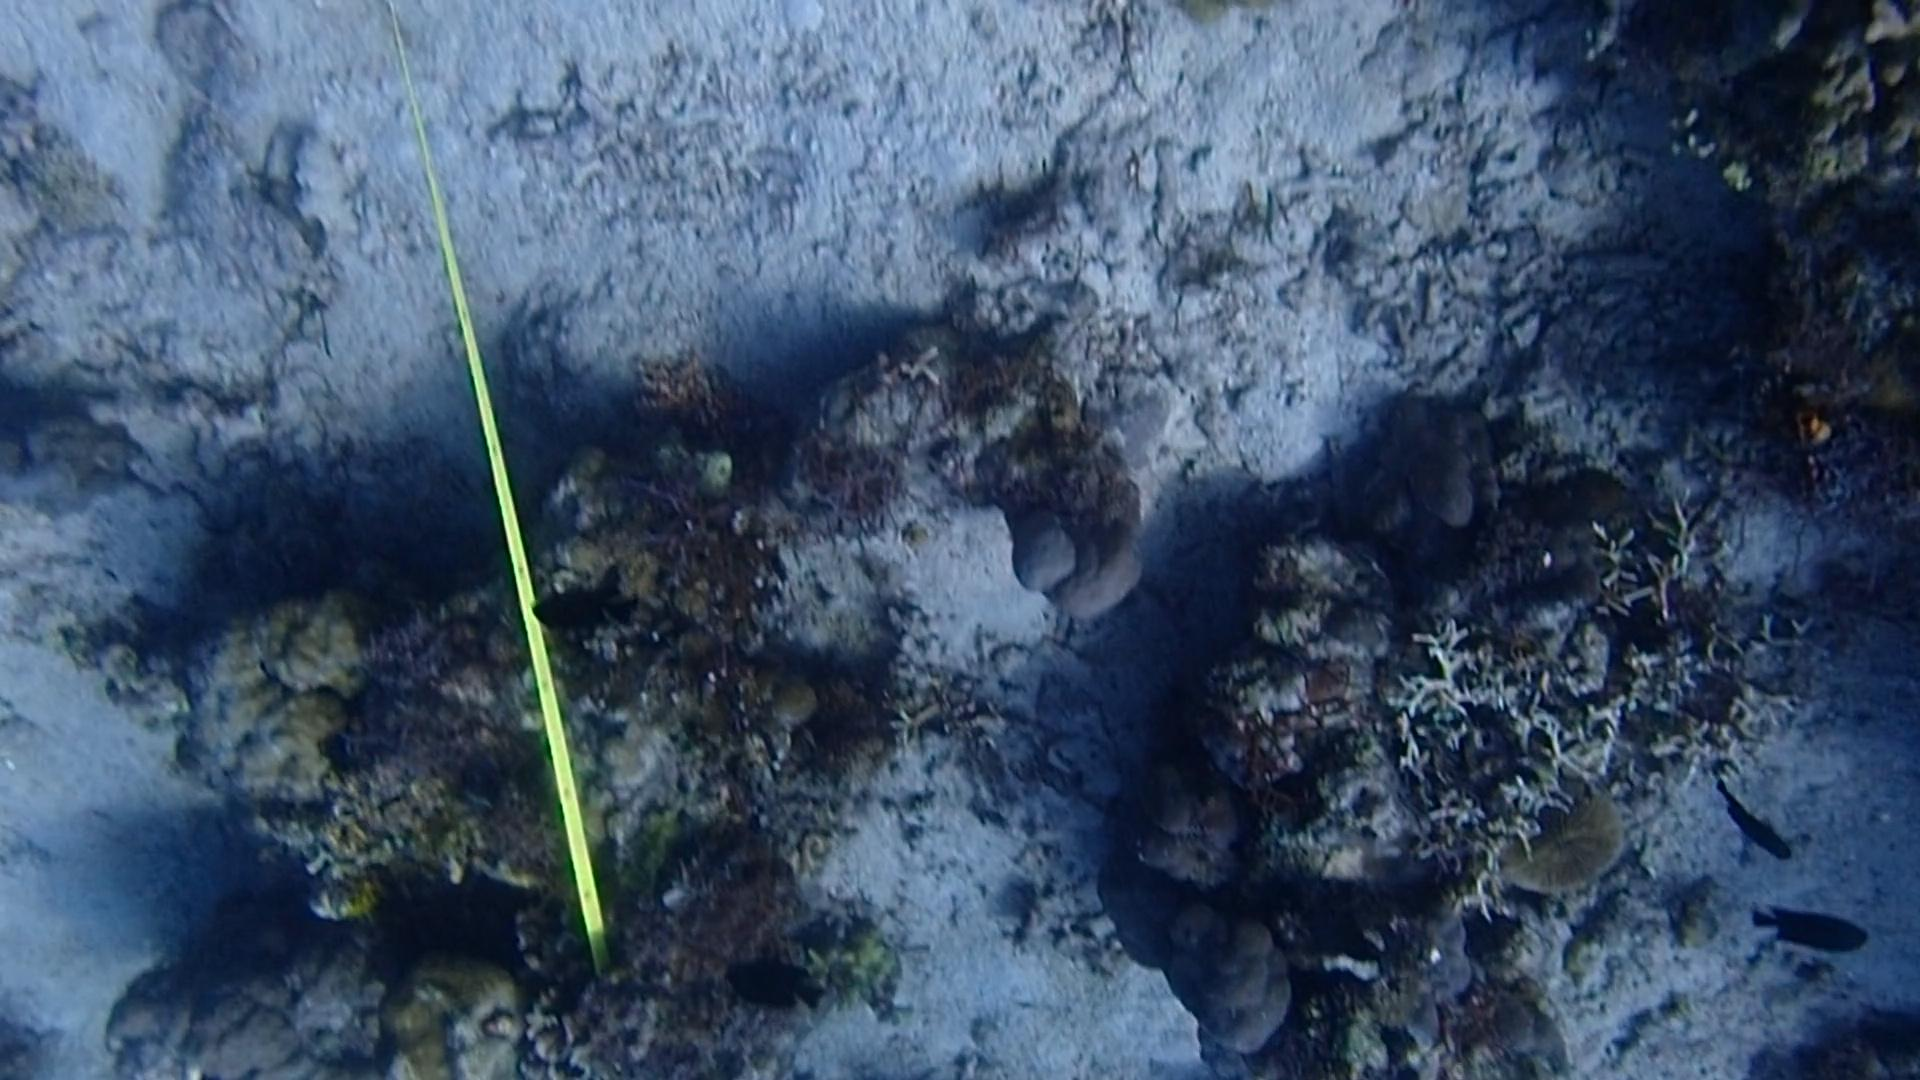Dark Fish: (1696, 766, 1815, 869), (521, 558, 651, 647), (702, 928, 829, 1017), (1747, 885, 1876, 967), (1290, 881, 1379, 980)
